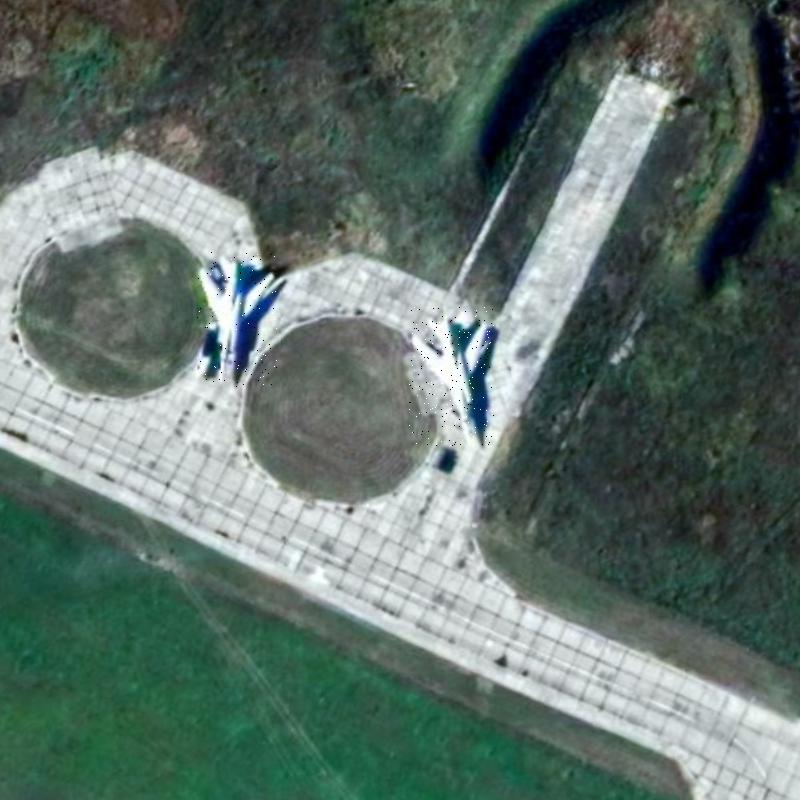A12: (409, 307, 494, 446), (197, 252, 277, 387)
